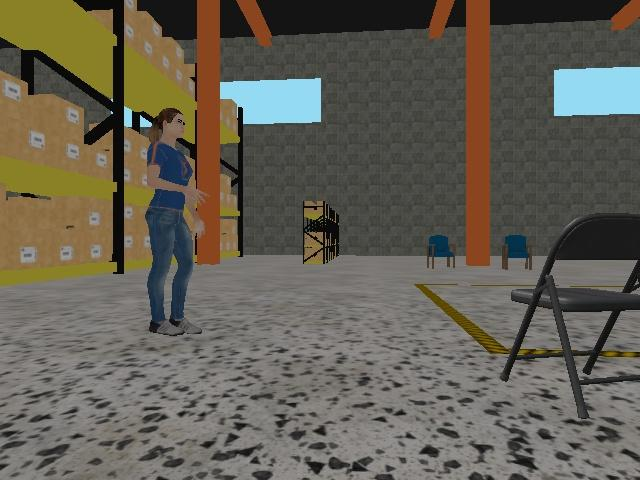chair: (500, 211, 640, 419), (500, 234, 534, 271), (426, 233, 459, 270)
person: (143, 107, 213, 338)
